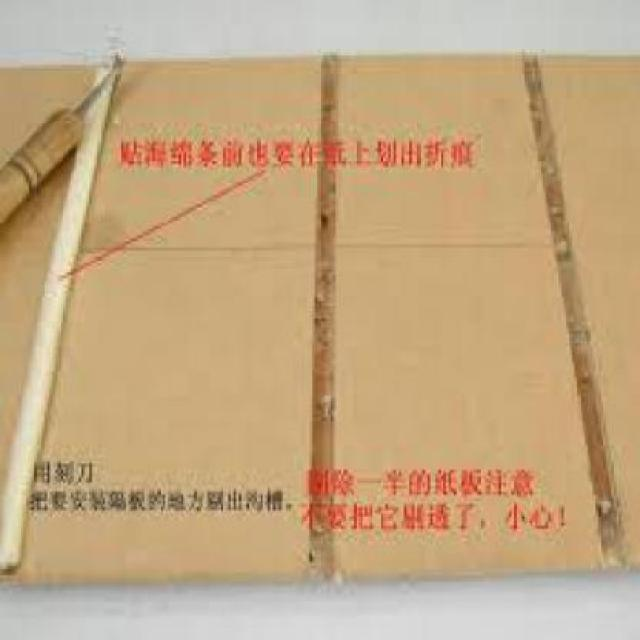CARDBOARD: (0, 58, 320, 576), (325, 52, 601, 576), (532, 49, 637, 569)
